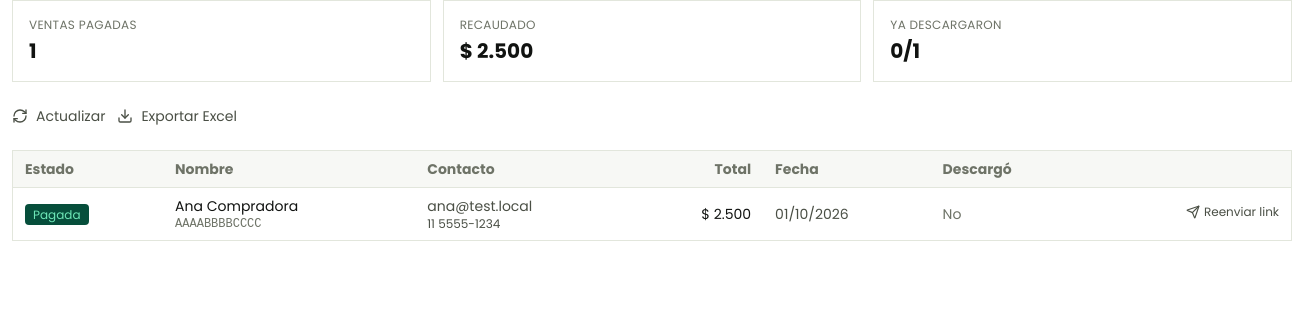
Test case: PanelVentasProductos › reenviar el link › pide el reenvío por el código y avisa
Click the button with aria-label "Reenviar link a Ana Compradora".
click(1232, 212)  # box x1=1186 y1=204 x2=1279 y2=220
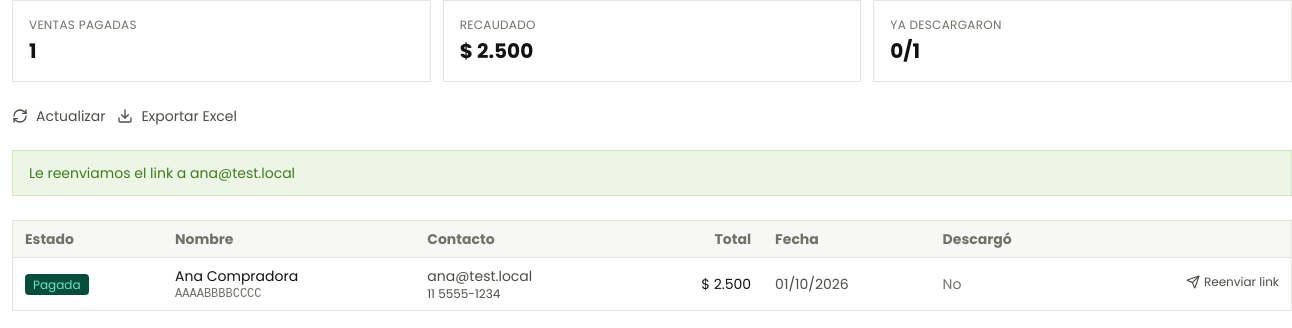
Result: the message reads "Le reenviamos el link a ana@test.local" at x1=29 y1=163 x2=295 y2=183
